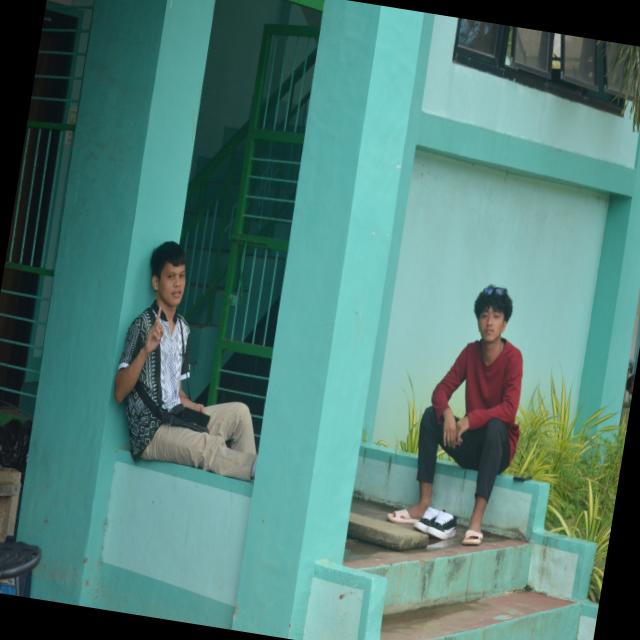person: (388, 285, 522, 545), (114, 242, 257, 480)
